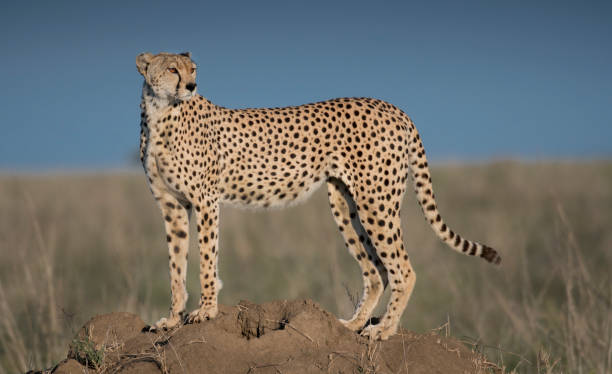cheetah: (120, 46, 215, 104)
